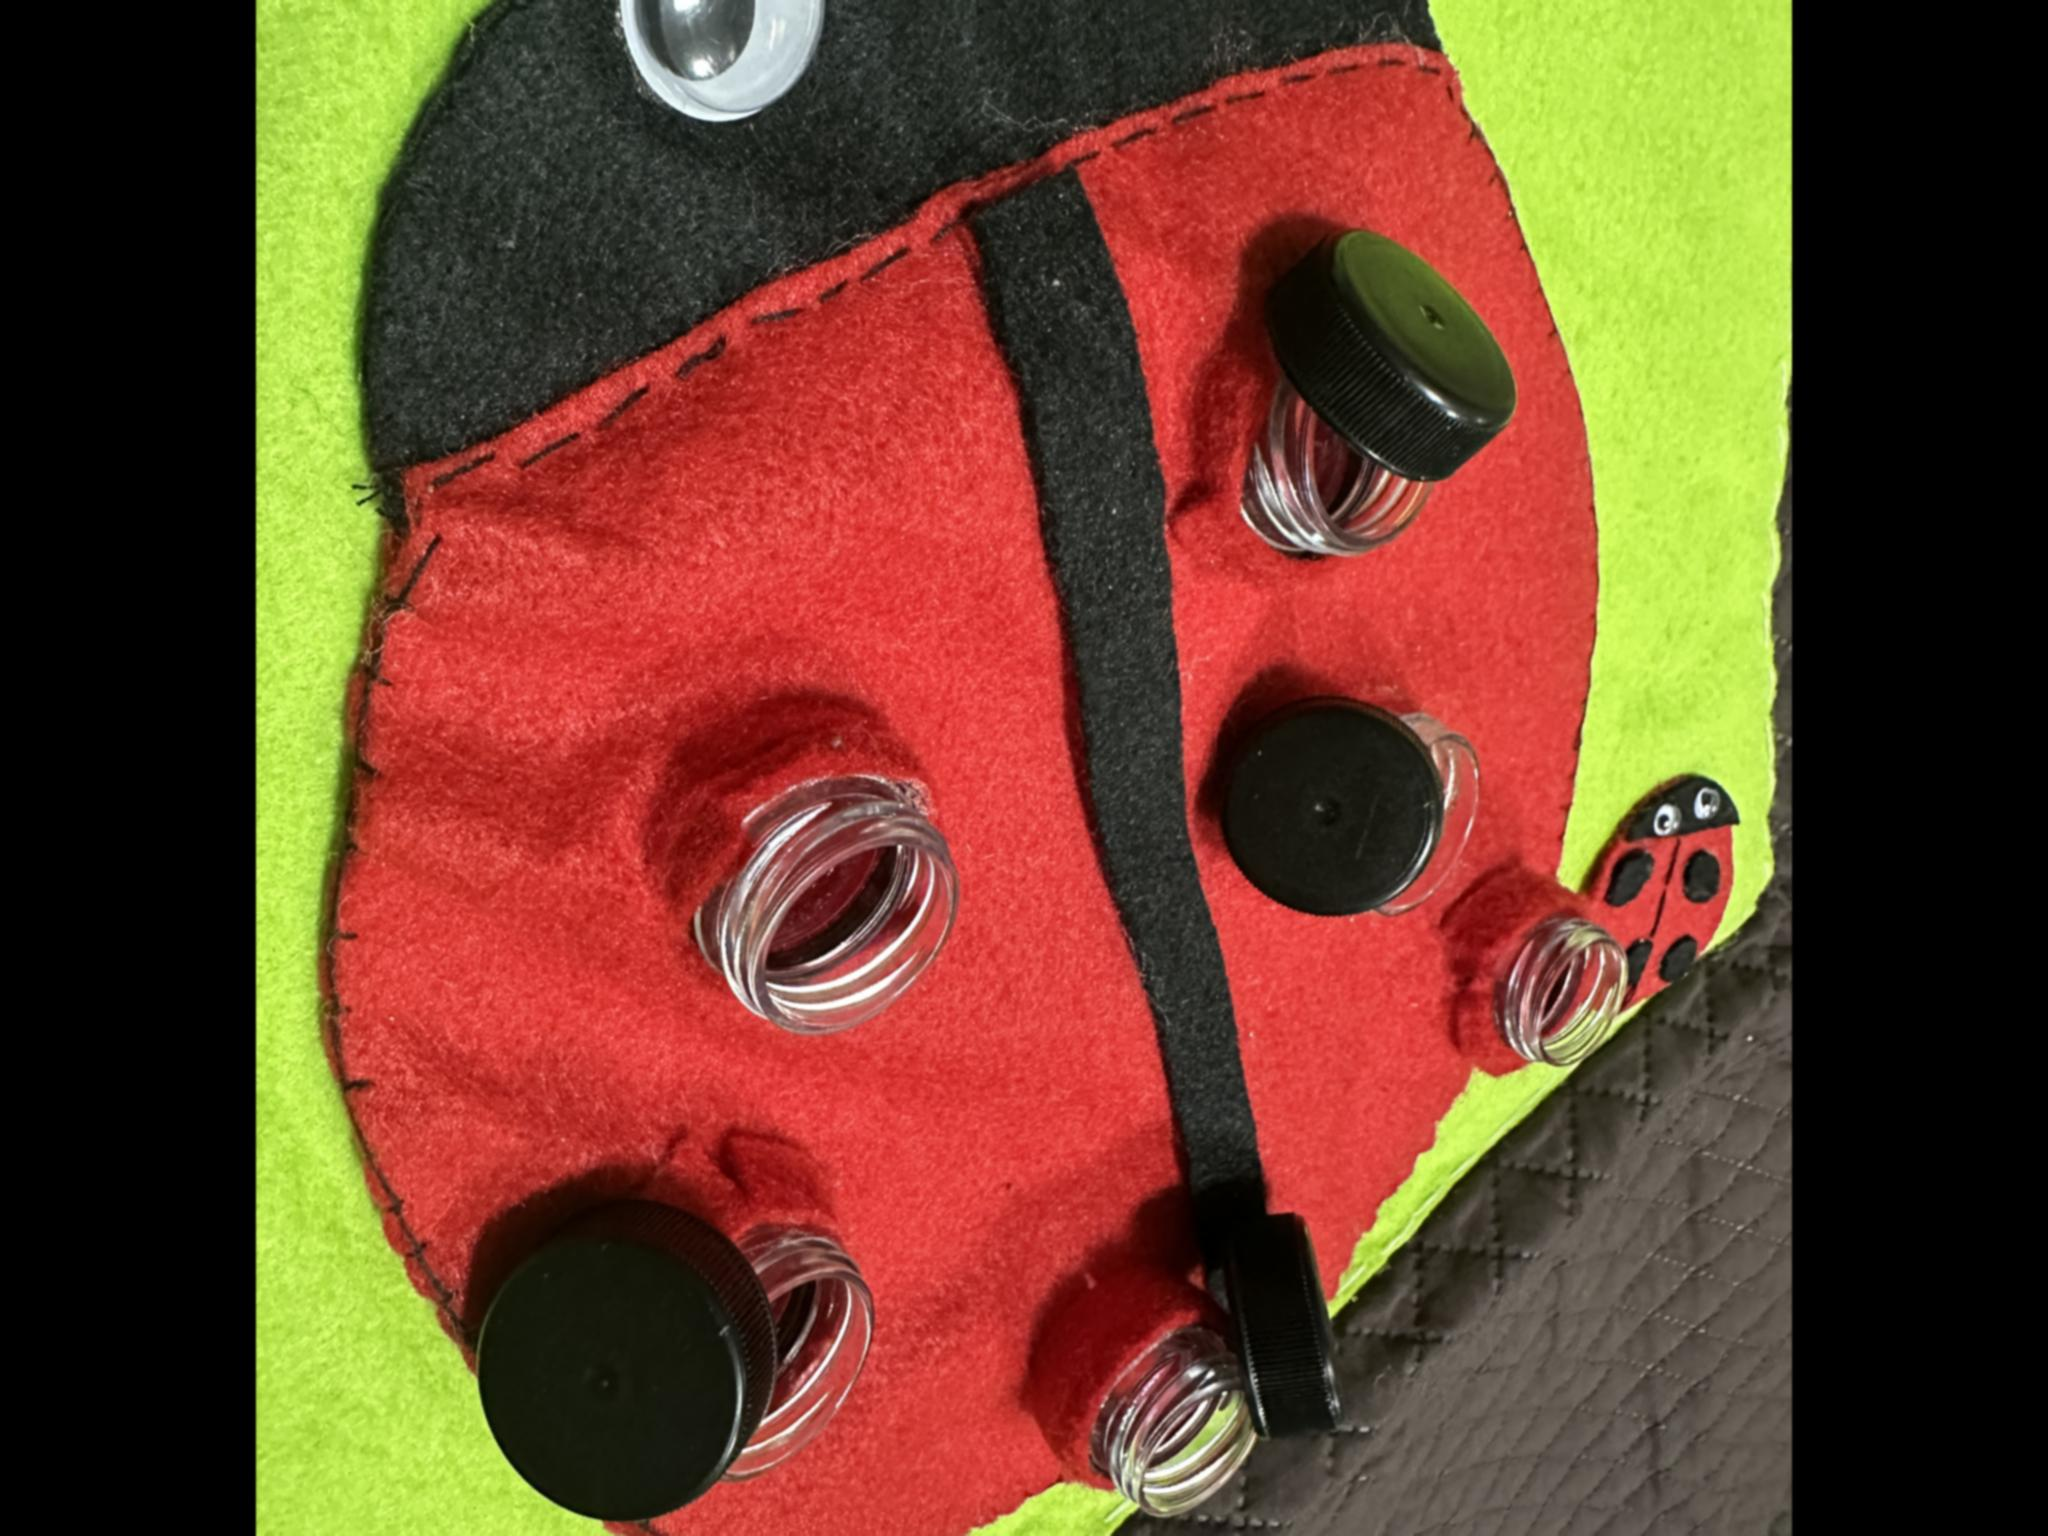cap_ng: (455, 1133, 898, 1536), (1203, 219, 1517, 608), (1013, 1191, 1364, 1520), (1192, 676, 1493, 949)
